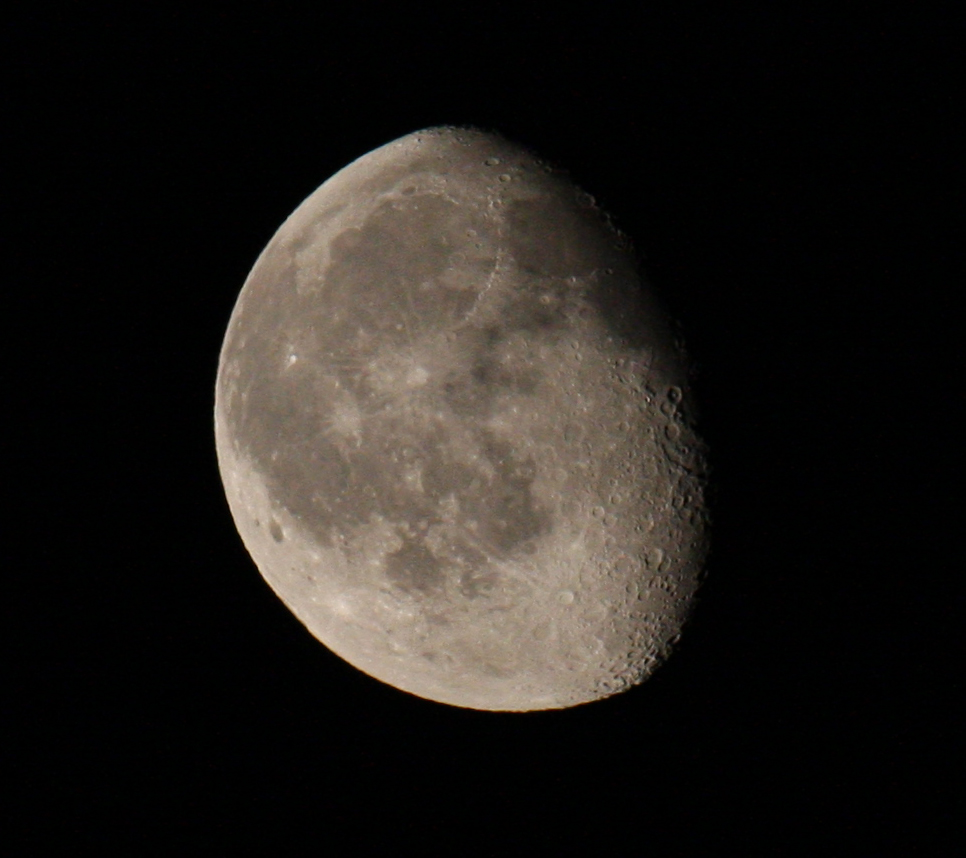crater: (494, 545, 604, 641), (385, 172, 443, 218), (551, 416, 594, 451), (278, 338, 312, 378), (572, 492, 613, 524), (519, 286, 557, 319), (438, 243, 473, 275), (558, 257, 587, 294), (469, 144, 511, 168), (655, 376, 688, 405), (454, 216, 484, 238)
